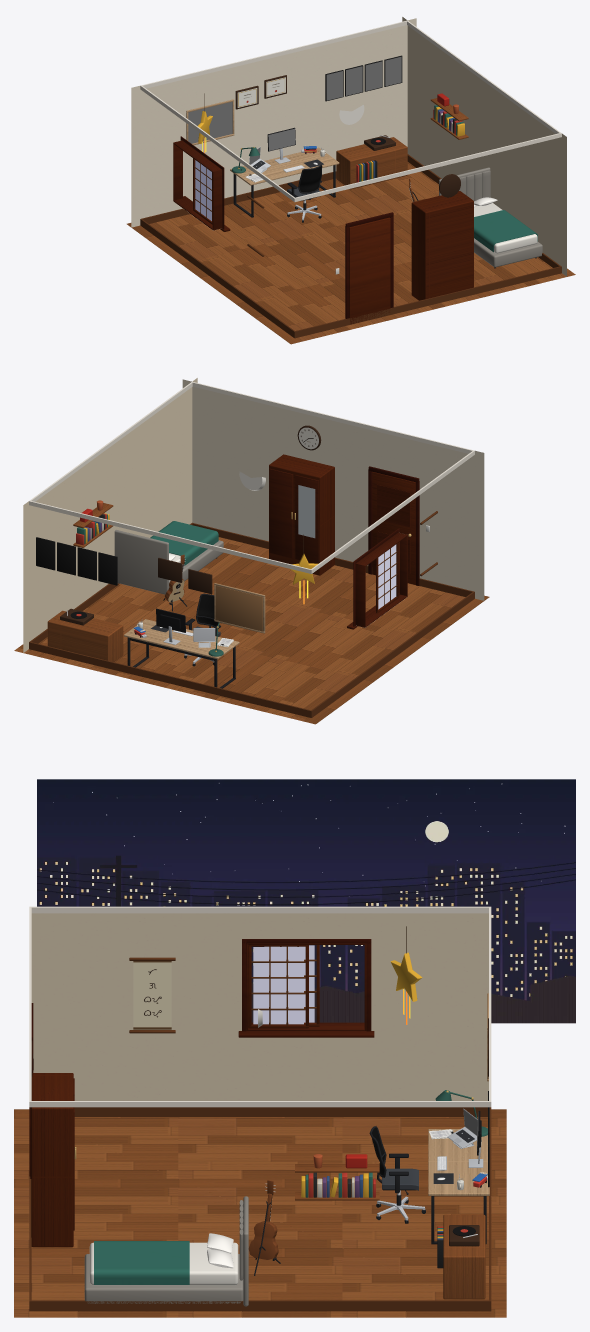
File: room_baked.glb
3 views of the same model, one above another, from view 1: azimuth 30°, elevation 25°; view 2: azimuth 150°, elevation 25°; view 3: azimuth 270°, elevation 25° (orthographic). The views are drawn at different scales.
Visible parts, largest first — view 1: Mesh_0, Mesh_2, Mesh_3, Mesh_247, Mesh_242, Mesh_9, Mesh_193, hd_bed_blanket, Mesh_13, Mesh_12, Mesh_6, Mesh_16 (+18 smaller); view 2: Mesh_0, Mesh_4, Mesh_3, hd_bed_frame, Mesh_247, Mesh_193, Mesh_8, clk_films, Mesh_248, clk_cork, Mesh_242, Mesh_12 (+14 smaller); view 3: nobake_outside, Mesh_1, Mesh_0, Mesh_247, Mesh_7, hd_bed_blanket, Mesh_6, hd_bed_frame, Mesh_10, Mesh_11, clk_baybayin, Mesh_193 (+5 smaller).
Boxes of the visible parts, x1,y1,x2,y2 form: Mesh_0: [127, 162, 575, 344]; Mesh_2: [131, 18, 416, 227]; Mesh_3: [402, 17, 566, 276]; Mesh_247: [411, 191, 473, 300]; Mesh_242: [349, 217, 390, 324]; Mesh_9: [294, 266, 560, 337]; Mesh_193: [336, 137, 407, 189]; hd_bed_blanket: [474, 210, 537, 252]; Mesh_13: [294, 133, 560, 201]; Mesh_12: [140, 21, 406, 89]; Mesh_6: [140, 219, 295, 338]; Mesh_16: [230, 147, 339, 185]; Mesh_0: [14, 537, 489, 724]; Mesh_4: [182, 379, 484, 600]; Mesh_3: [23, 378, 197, 652]; hd_bed_frame: [114, 530, 223, 594]; Mesh_247: [269, 454, 334, 575]; Mesh_193: [47, 610, 123, 661]; Mesh_8: [29, 641, 312, 717]; clk_films: [36, 537, 117, 585]; Mesh_248: [269, 468, 293, 558]; clk_cork: [214, 583, 265, 633]; Mesh_242: [372, 472, 415, 584]; Mesh_12: [30, 501, 312, 573]; nobake_outside: [37, 779, 575, 1023]; Mesh_1: [31, 913, 488, 1100]; Mesh_0: [14, 1109, 506, 1317]; Mesh_247: [31, 1073, 73, 1247]; Mesh_7: [29, 1300, 491, 1311]; hd_bed_blanket: [94, 1241, 189, 1284]; Mesh_6: [74, 1107, 487, 1116]; hd_bed_frame: [84, 1196, 248, 1306]; Mesh_10: [31, 906, 488, 913]; Mesh_11: [29, 1101, 491, 1107]; clk_baybayin: [129, 957, 175, 1033]; Mesh_193: [443, 1214, 485, 1299].
Bounding box in the file's own units: 8.4 × 3.81 × 7.3.
Materials: 249 (48 with a texture image).
